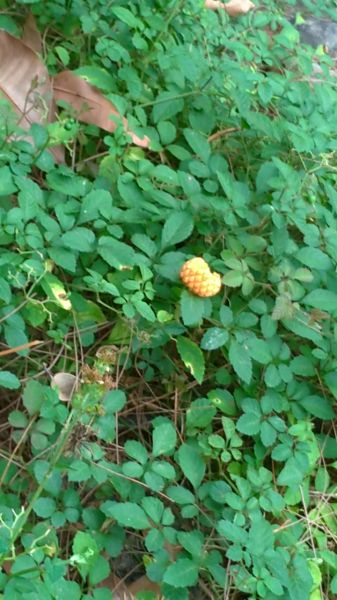eggs: (178, 254, 227, 303)
